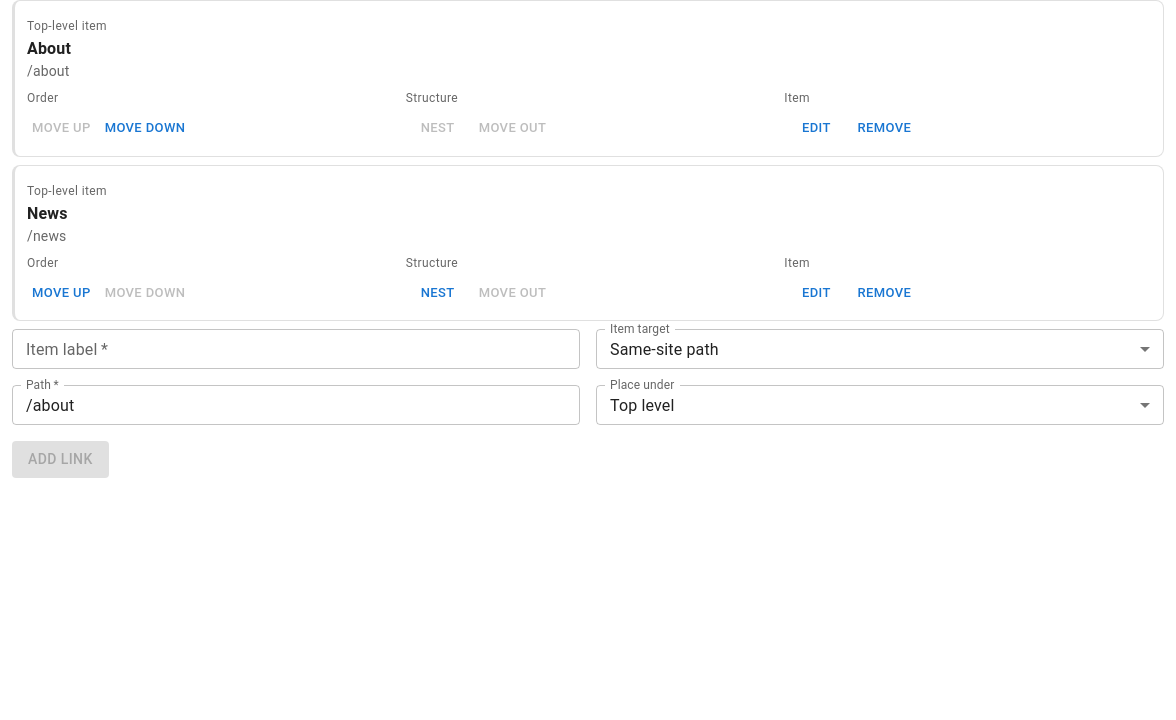
it: MenuItemTree › reports a version conflict and does not send the stale change again
This screenshot has width=1176, height=720.
Step 1. Click the button with aria-label "Move About down" → click(145, 128), box x1=100 y1=113 x2=190 y2=144
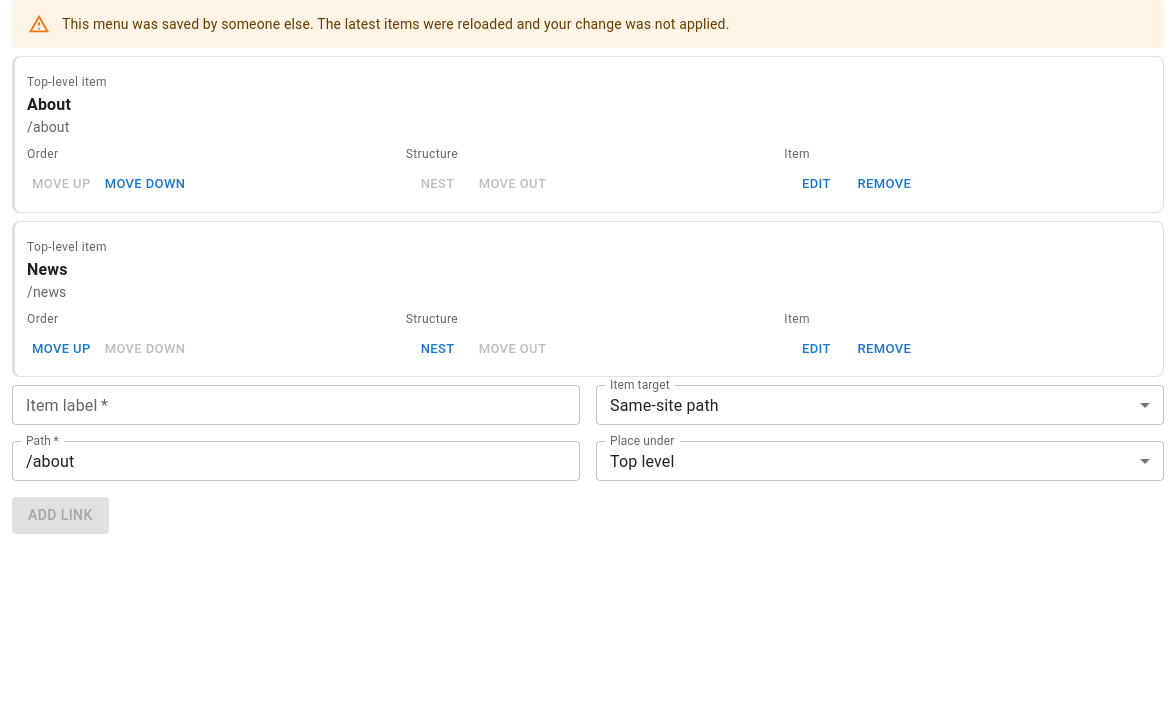
Expected: the text "saved by someone else" is shown, x1=62 y1=16 x2=730 y2=32
